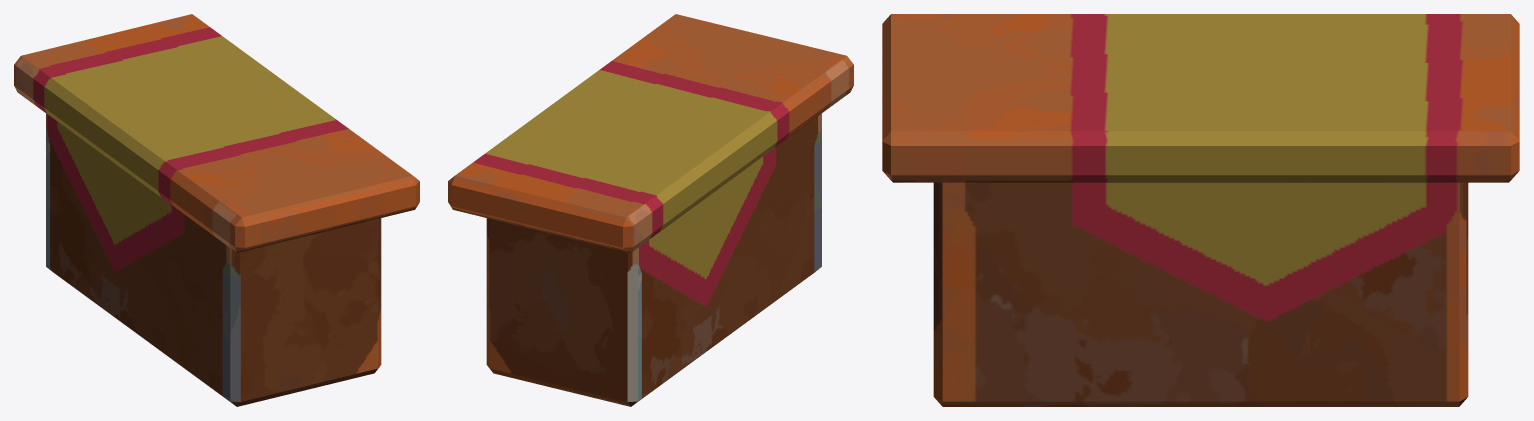
The model's file is TABLE.fbx.
3 views of the same model, side by side, from view 1: azimuth 30°, elevation 25°; view 2: azimuth 150°, elevation 25°; view 3: azimuth 270°, elevation 25° (orthographic). The views are drawn at different scales.
Parts seen in each view (by area): view 1: TABLE; view 2: TABLE; view 3: TABLE.
Part boxes in pixels (box(x1,y1,x2,y2)): TABLE: box(14, 14, 419, 406); TABLE: box(448, 14, 853, 406); TABLE: box(882, 14, 1519, 406).
Size of the model in its own units: 178 by 190 by 380.
1 material, 1 textured.
